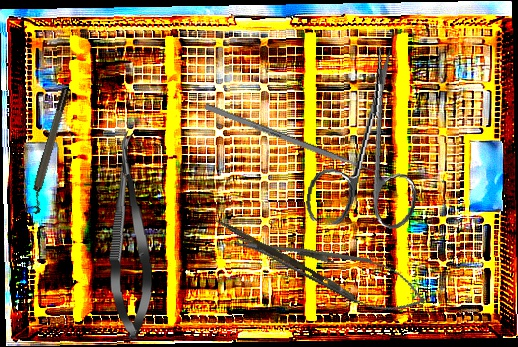Fixation Ring: (22, 87, 77, 215)
Iris Scissors: (303, 39, 437, 235)
Micro Scissor: (104, 129, 155, 341)
Needle Holder: (229, 217, 433, 324)
Pusher: (204, 103, 383, 178), (213, 218, 327, 283)
